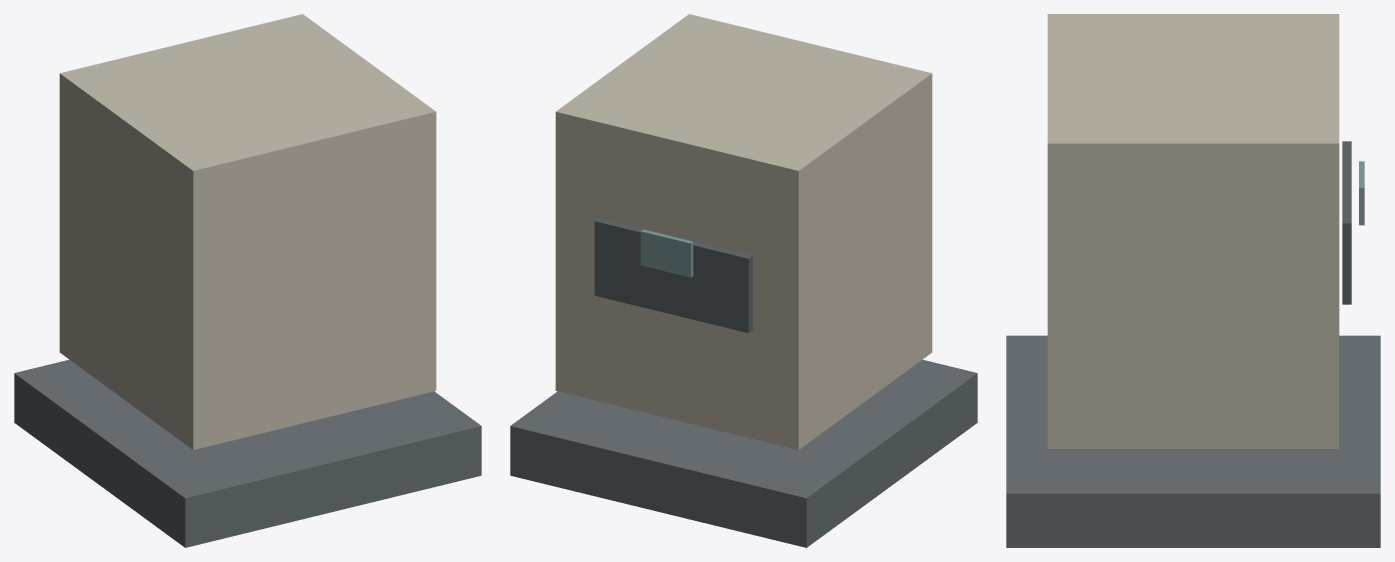
File: iz3_prison_watch_01.glb
3 views of the same model, side by side, from view 1: azimuth 30°, elevation 25°; view 2: azimuth 150°, elevation 25°; view 3: azimuth 270°, elevation 25° (orthographic). The views are drawn at different scales.
Parts seen in each view (by area): view 1: cabinet, base; view 2: cabinet, base, panel, display; view 3: cabinet, base, panel.
Part boxes in pixels (box(x1,y1,x2,y2)): cabinet: box(59, 14, 436, 449); base: box(14, 359, 481, 547); cabinet: box(555, 14, 932, 449); base: box(510, 359, 977, 547); panel: box(594, 218, 752, 333); display: box(640, 229, 693, 277); cabinet: box(1047, 14, 1339, 448); base: box(1006, 335, 1380, 547); panel: box(1342, 141, 1351, 304).
Size of the model in its own units: 2 by 2.3 by 2.
